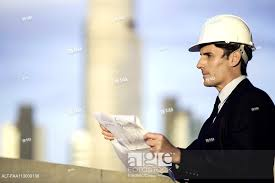Person_wearing_helmet: (183, 10, 258, 69)
